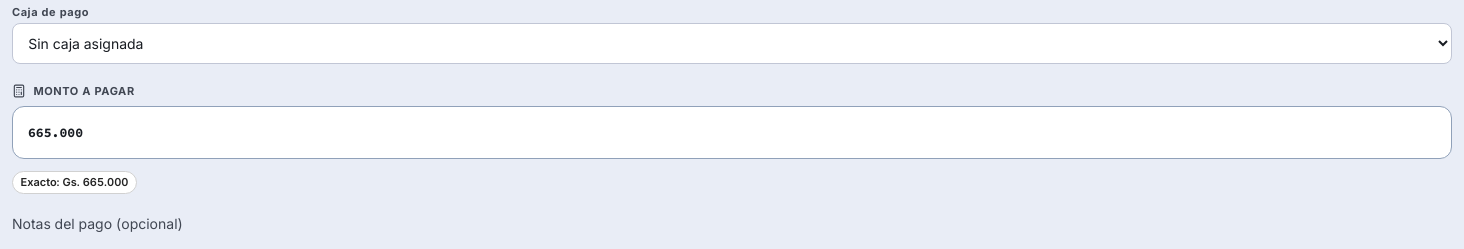
Test: PurchaseCollectionStep — formateo del monto a pagar › F4 escribe el monto exacto formateado
The image size is (1464, 249).
Replace the text in the field labelled "Monto a pagar" with "100" at (732, 132), box [12,106,1452,158]
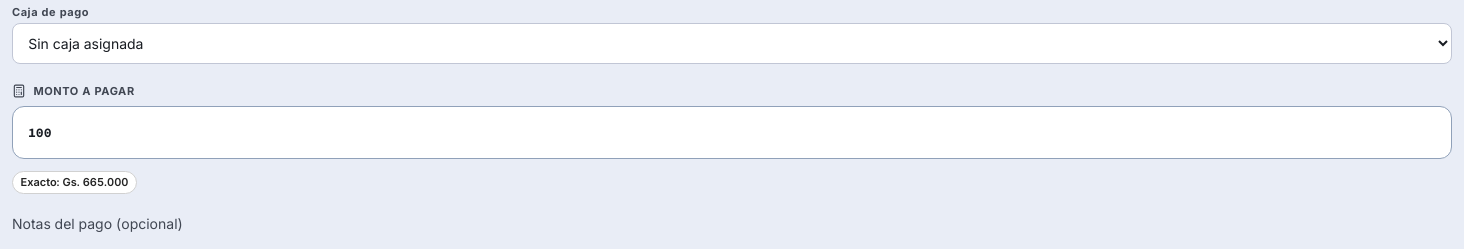
Press F4
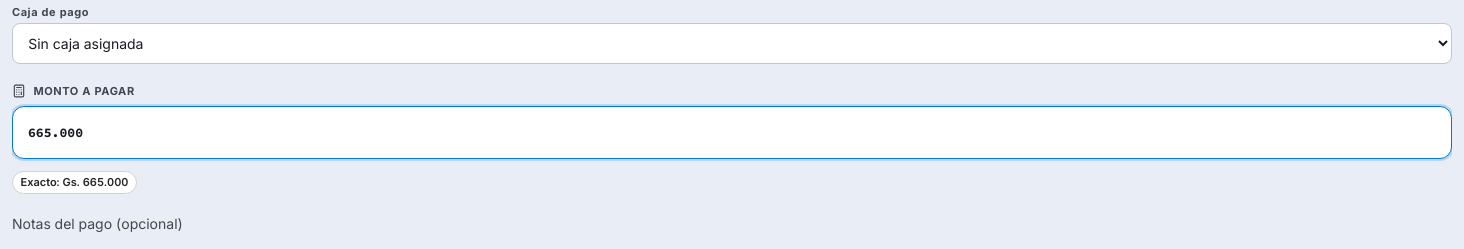
Expected: the field labelled "Monto a pagar" holds "665.000", [12,106,1452,158]
